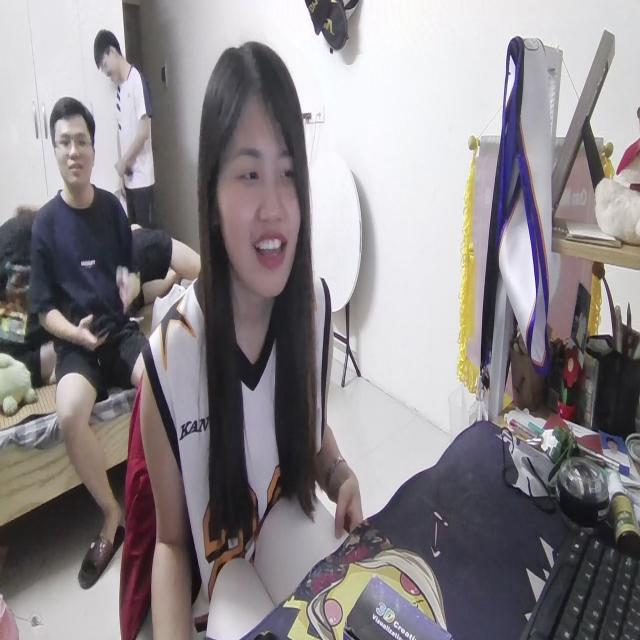book: (198, 477, 352, 640)
extra_person: (29, 89, 155, 582), (96, 24, 157, 234)
student: (138, 33, 368, 640)
